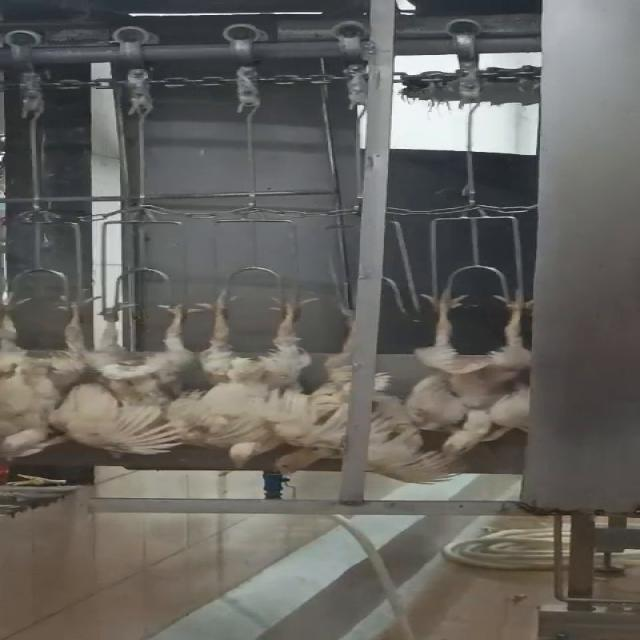chicken: (400, 284, 533, 456), (196, 296, 320, 468), (73, 298, 195, 463), (265, 309, 365, 477), (0, 296, 80, 462)
